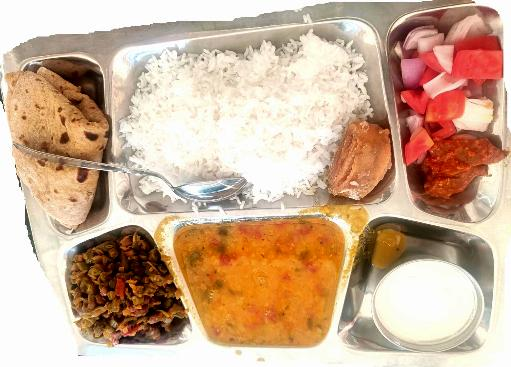Curd: (364, 253, 484, 352)
Dal: (185, 218, 333, 346)
Rice: (114, 39, 393, 204)
Roti: (0, 68, 109, 231)
Sweet: (327, 119, 397, 207)
Vegetable: (67, 238, 181, 342)
